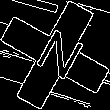N_SW: (25, 23, 85, 87)
